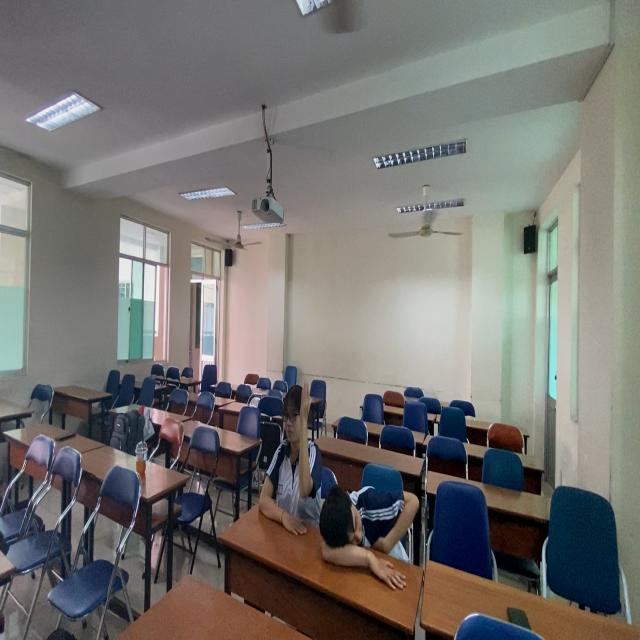raise_hand: (256, 372, 318, 540)
sleep: (314, 479, 425, 588)
